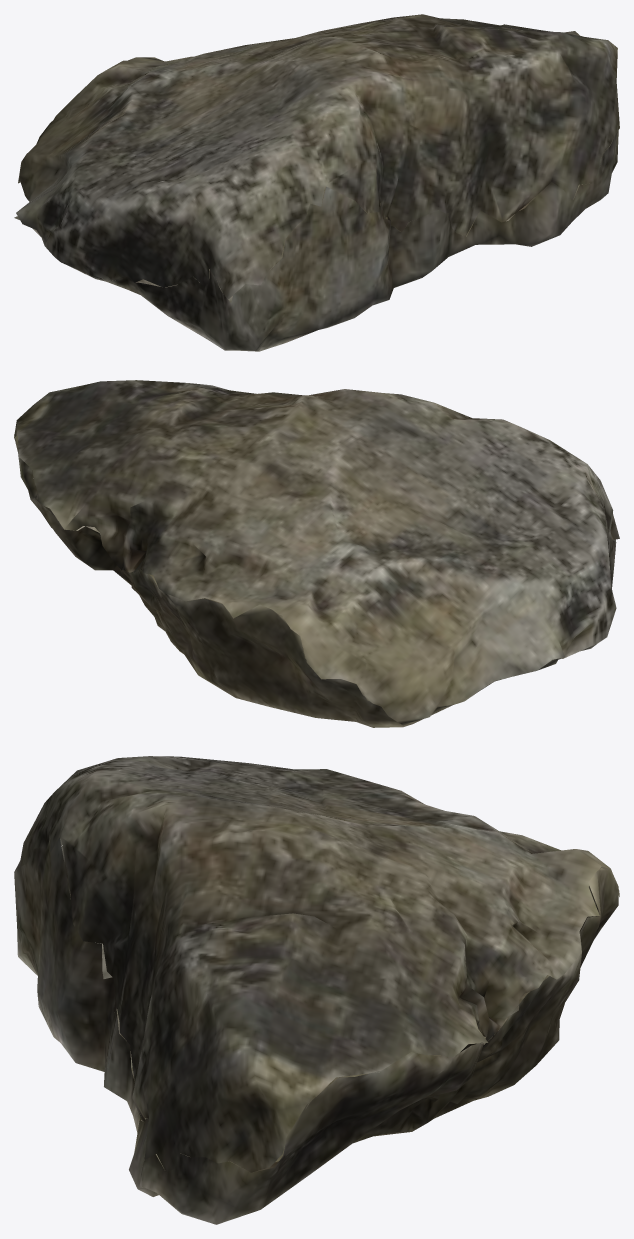
File: rock_moss_set_02_5.glb
The picture shows the model from 3 angles, top to bottom: view 1: azimuth 30°, elevation 25°; view 2: azimuth 150°, elevation 25°; view 3: azimuth 270°, elevation 25°; orthographic projection. The views are drawn at different scales.
Visible parts, largest first — view 1: rock_moss_set_02_rock10; view 2: rock_moss_set_02_rock10; view 3: rock_moss_set_02_rock10.
Boxes of the visible parts, left/top/right/bottom form: rock_moss_set_02_rock10: left=14, top=14, right=619, bottom=351; rock_moss_set_02_rock10: left=14, top=380, right=619, bottom=727; rock_moss_set_02_rock10: left=14, top=756, right=619, bottom=1224.
Size of the model in its own units: 2.2 by 0.7702 by 1.55.
Materials: 1 (1 with a texture image).
